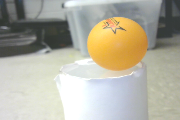PingPongBall: (88, 17, 148, 71)
